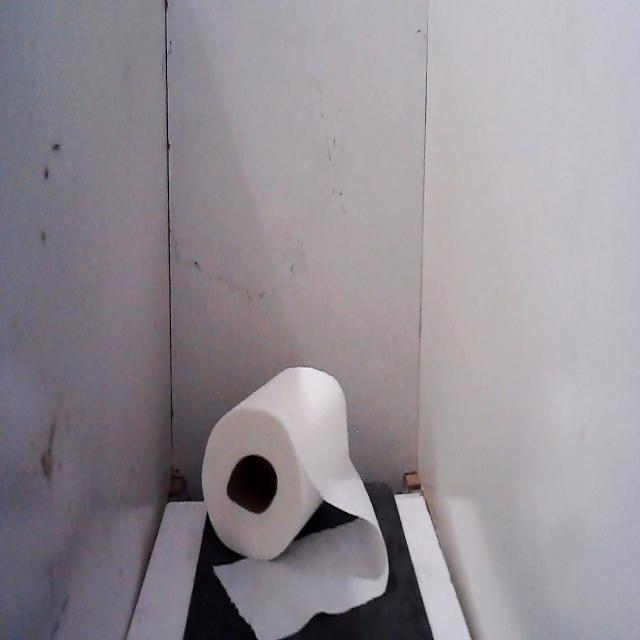papel: (198, 351, 393, 640)
